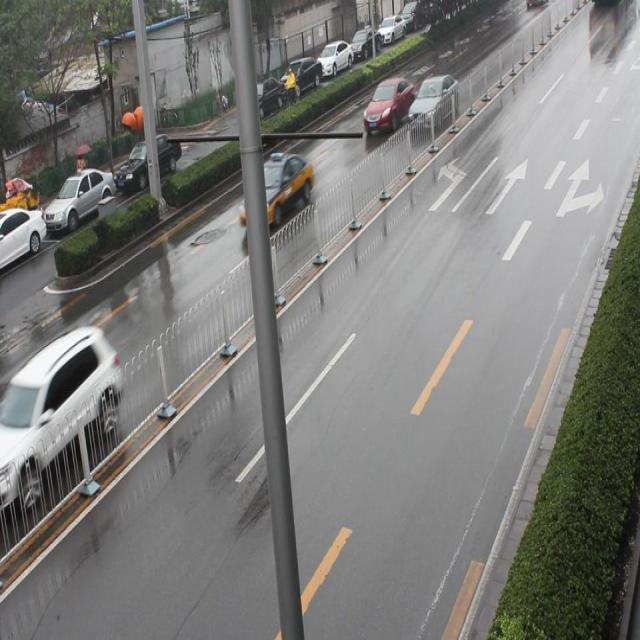car: (0, 329, 126, 507), (238, 145, 313, 244), (360, 72, 412, 138), (405, 70, 458, 133)
